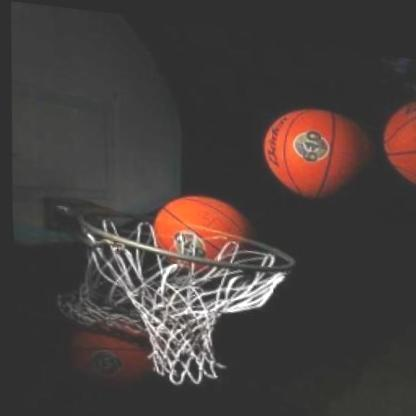basketball: (255, 85, 369, 203), (137, 175, 257, 287), (374, 75, 416, 186)
